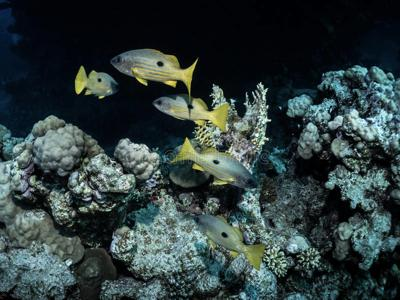Lutjanidae -Snappers-: (103, 45, 199, 102), (168, 134, 257, 190), (189, 210, 266, 269), (149, 92, 230, 134), (70, 60, 121, 101)
